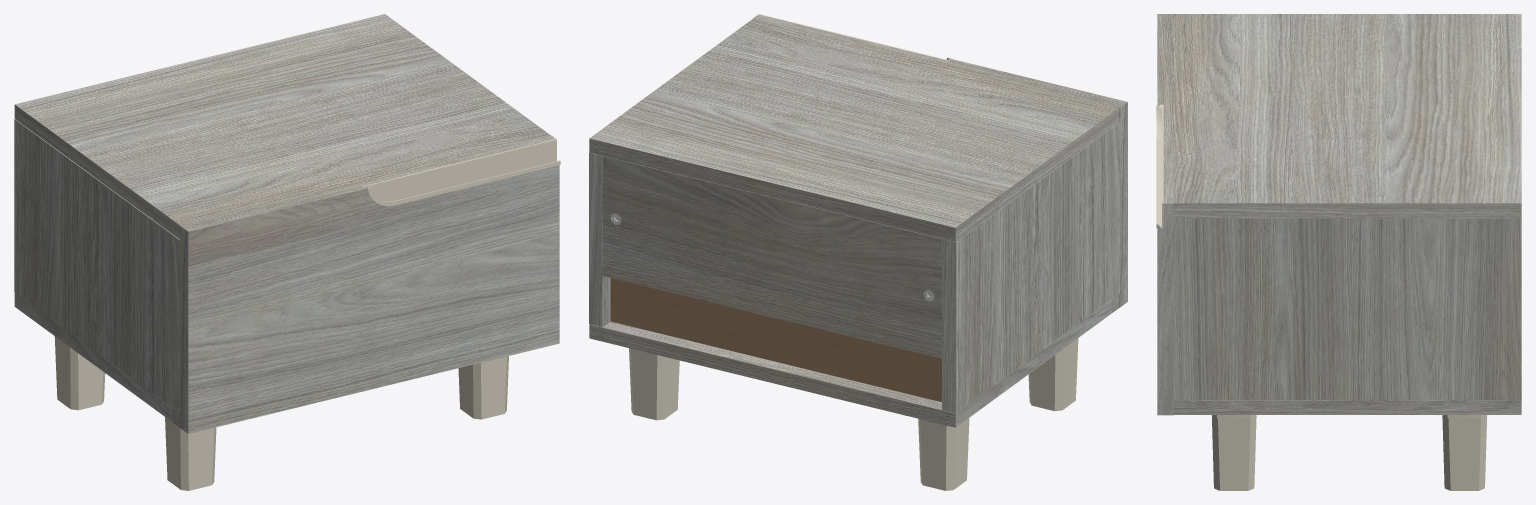
3 renders of one model, left to right at view 1: azimuth 30°, elevation 25°; view 2: azimuth 150°, elevation 25°; view 3: azimuth 270°, elevation 25°, orthographic. The views are drawn at different scales.
Parts seen in each view (by area): view 1: group_0.094, group_0.088, group_0.143; view 2: group_0.094, group_0.030, group_0.088; view 3: group_0.094, group_0.088, group_0.143.
Boxes of the visible parts, <box> form: group_0.094: <box>14,14,559,433</box>; group_0.088: <box>54,336,508,490</box>; group_0.143: <box>363,139,560,206</box>; group_0.094: <box>589,14,1127,427</box>; group_0.030: <box>610,278,941,402</box>; group_0.088: <box>629,338,1078,490</box>; group_0.094: <box>1157,14,1521,415</box>; group_0.088: <box>1211,415,1487,490</box>; group_0.143: <box>1156,104,1163,228</box>.
Size of the model in its own units: 0.481 by 0.3532 by 0.391.
11 materials, 7 textured.
